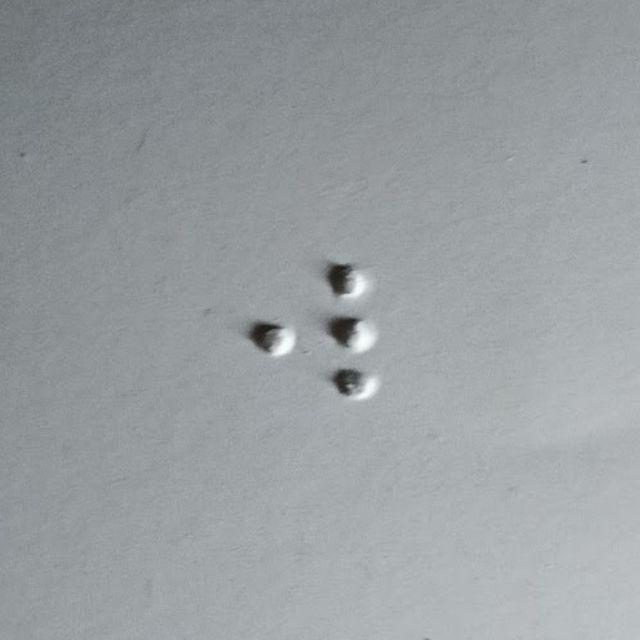dot_5: (204, 264, 295, 403)
larawan: (329, 261, 421, 400)
